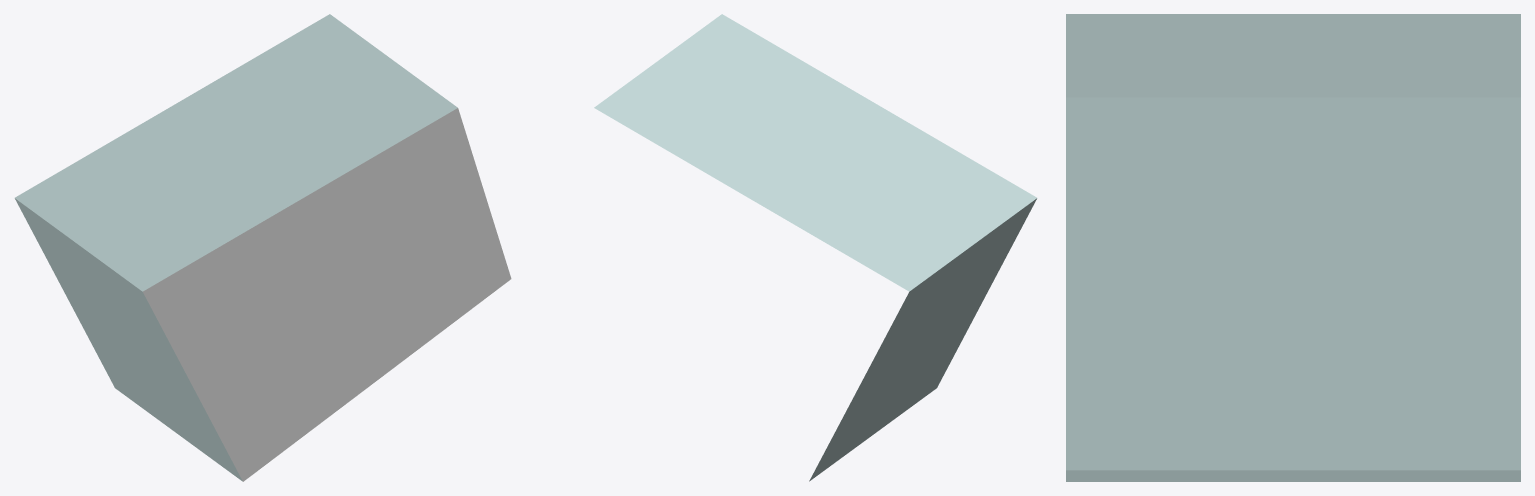
3 views of the same model, side by side, from view 1: azimuth 30°, elevation 25°; view 2: azimuth 150°, elevation 25°; view 3: azimuth 270°, elevation 25° (orthographic). The views are drawn at different scales.
Visible parts, largest first — view 1: 0_2_2_3_2_1_3_3_1; view 2: 0_2_2_3_2_1_3_3_1; view 3: 0_2_2_3_2_1_3_3_1.
Part boxes in pixels (x1,y1,x2,y2): 0_2_2_3_2_1_3_3_1: (14,14,511,481); 0_2_2_3_2_1_3_3_1: (594,14,1037,481); 0_2_2_3_2_1_3_3_1: (1066,14,1520,481).
Bounding box in the file's own units: 4.98 × 4.15 × 3.
